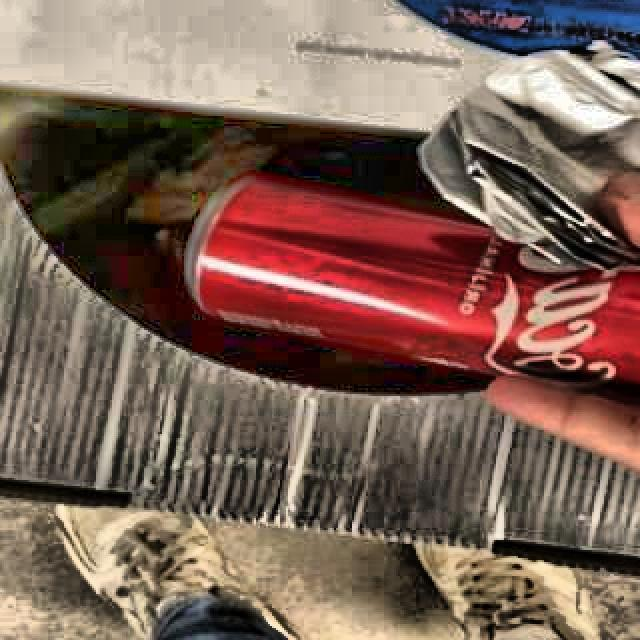metal: (187, 178, 640, 402)
